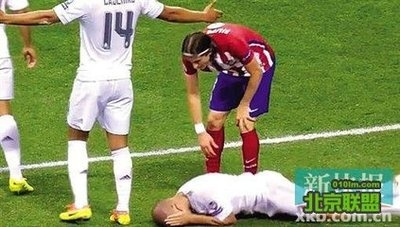falling: (148, 161, 333, 227)
